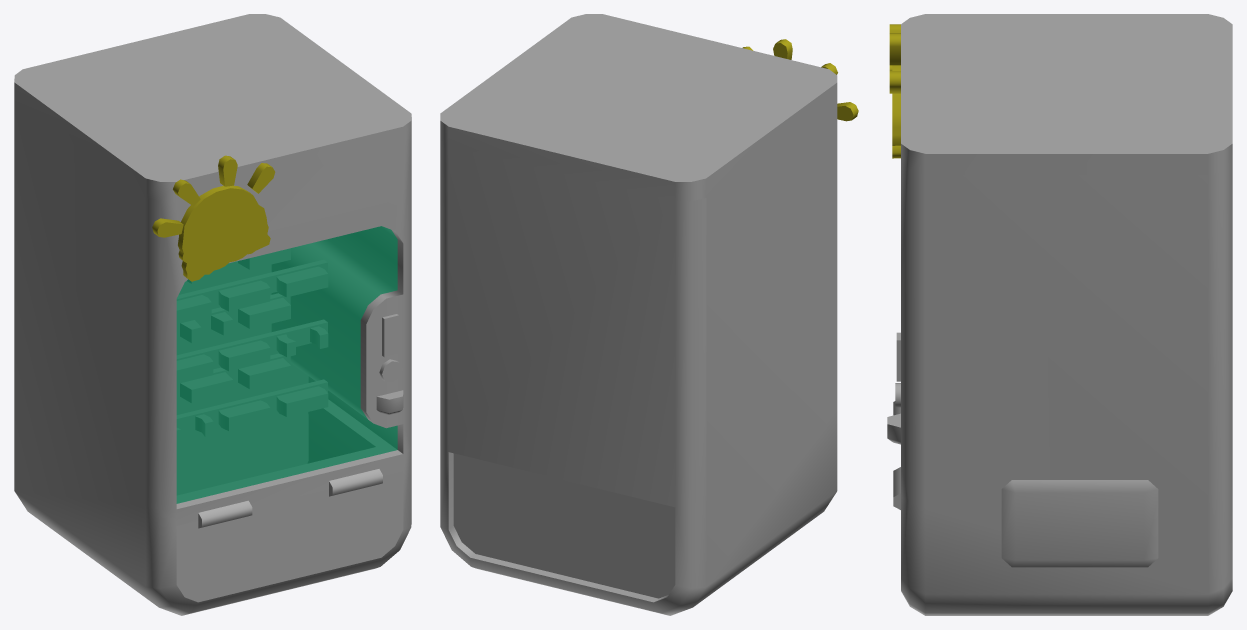
File: obj_decor_sunshakemachine.fbx
3 renders of one model, left to right at view 1: azimuth 30°, elevation 25°; view 2: azimuth 150°, elevation 25°; view 3: azimuth 270°, elevation 25°, orthographic. The views are drawn at different scales.
Visible parts, largest first — view 1: obj_decor_sunshakemachine; view 2: obj_decor_sunshakemachine; view 3: obj_decor_sunshakemachine.
Boxes of the visible parts, x1,y1,x2,y2 form: obj_decor_sunshakemachine: (14, 14, 411, 615); obj_decor_sunshakemachine: (440, 14, 858, 615); obj_decor_sunshakemachine: (887, 14, 1232, 615).
Bounding box in the file's own units: 5.18 × 8.26 × 5.2.
